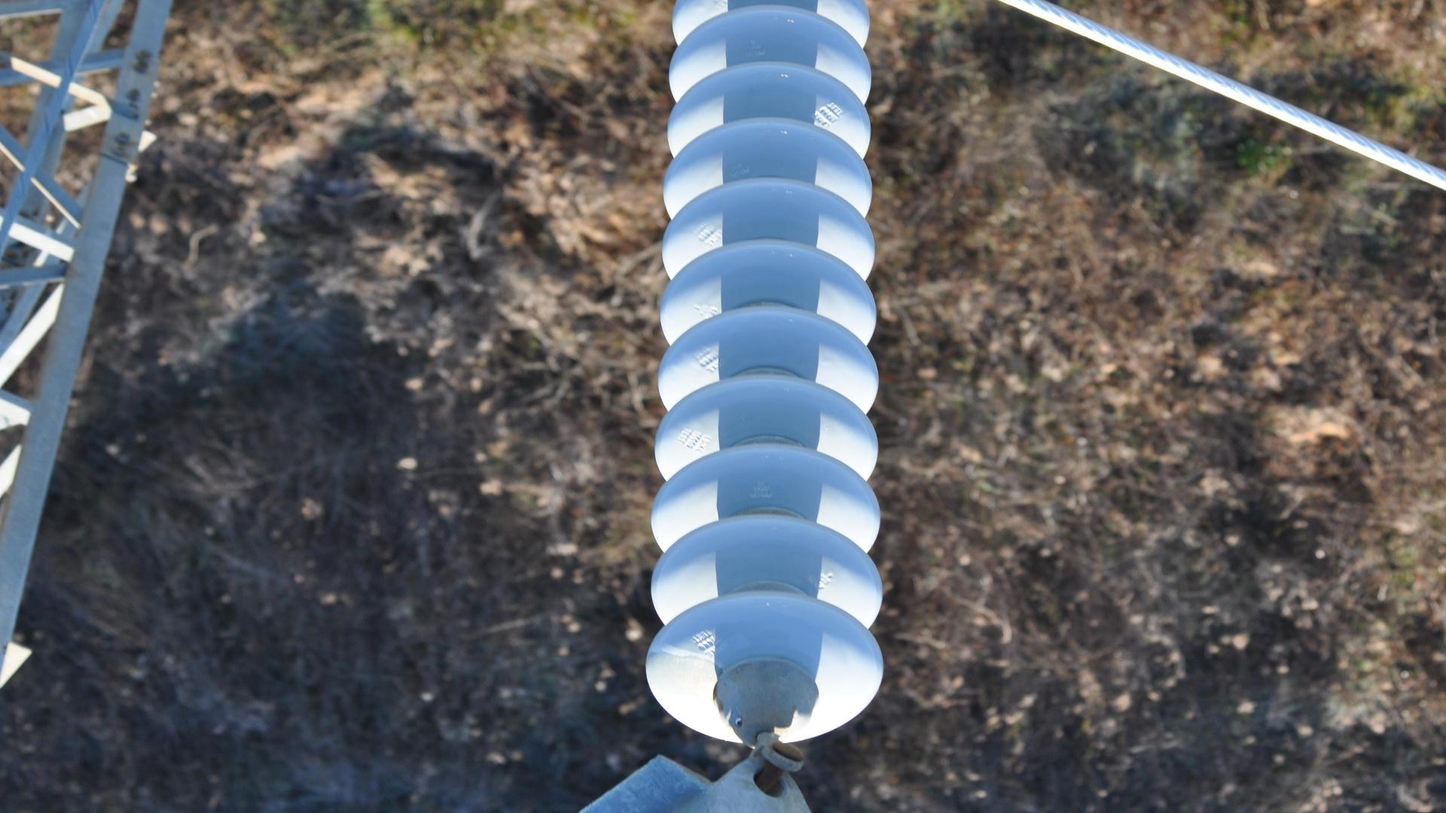insulator: (640, 1, 893, 753)
insulator_flashover: (643, 647, 725, 706)
